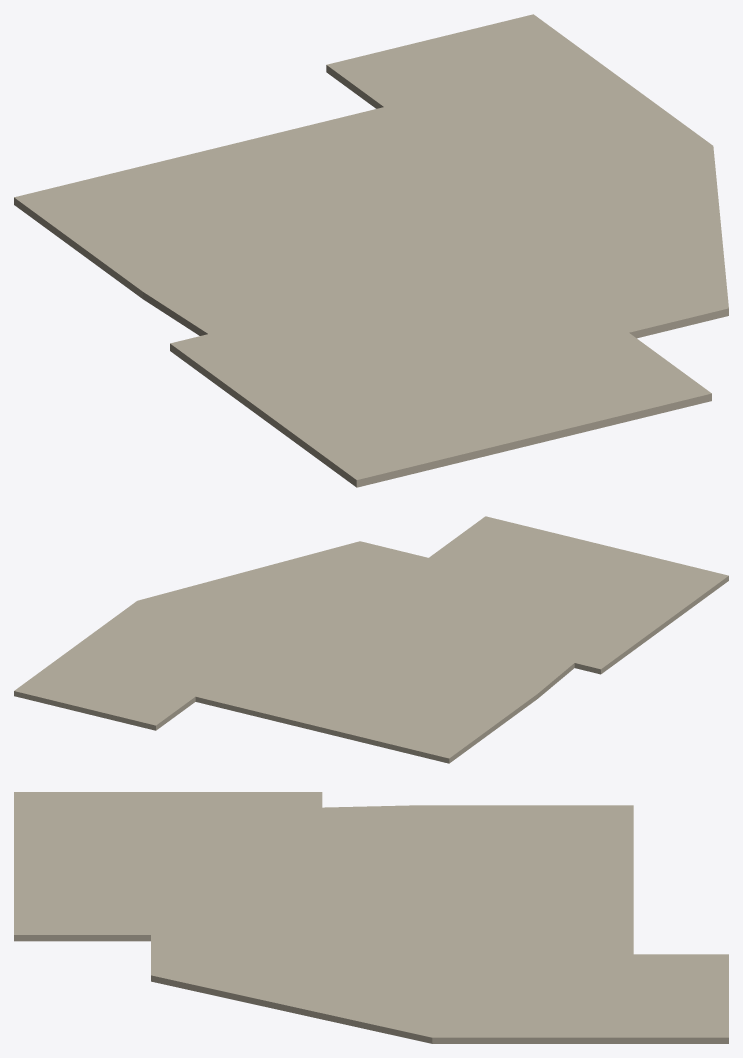
3 renders of one model, top to bottom at view 1: azimuth 30°, elevation 25°; view 2: azimuth 150°, elevation 25°; view 3: azimuth 270°, elevation 25°, orthographic. The views are drawn at different scales.
Parts seen in each view (by area): view 1: B-GF-SLAB; view 2: B-GF-SLAB; view 3: B-GF-SLAB.
Part boxes in pixels (x1,y1,x2,y2): B-GF-SLAB: [14, 14, 728, 487]; B-GF-SLAB: [14, 516, 728, 763]; B-GF-SLAB: [14, 792, 728, 1043].
Size of the model in its own units: 12.69 by 0.15 by 15.61.
